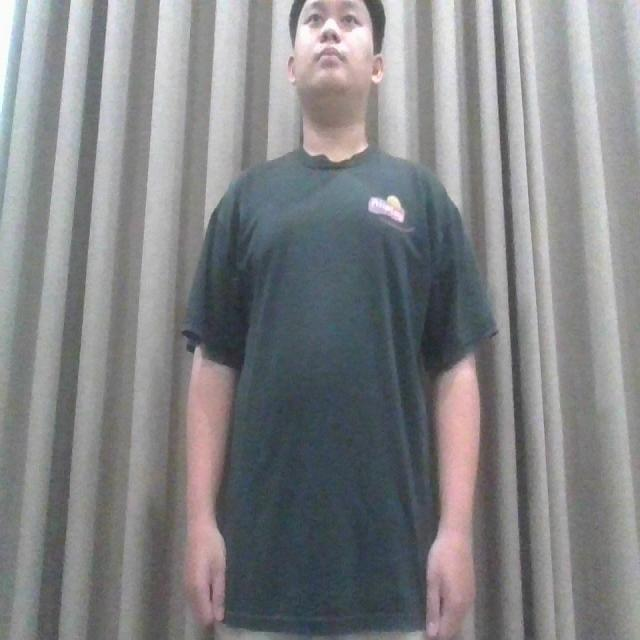T_shirt: (186, 148, 496, 632)
